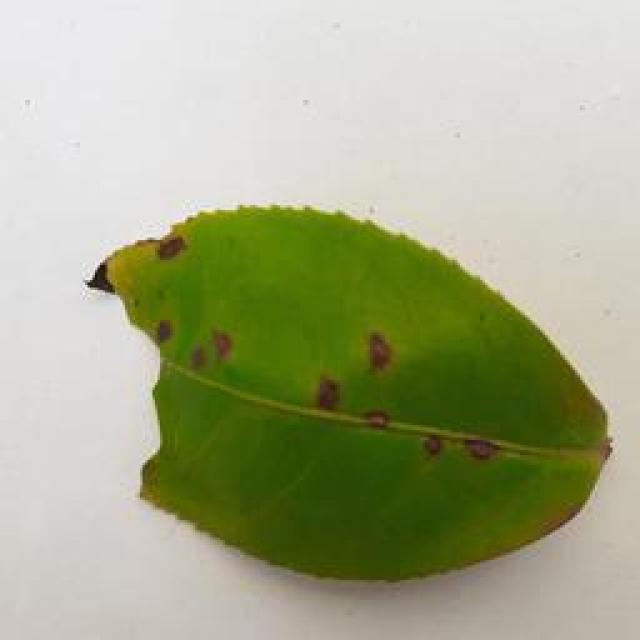Helopeltis: (76, 189, 620, 592)
